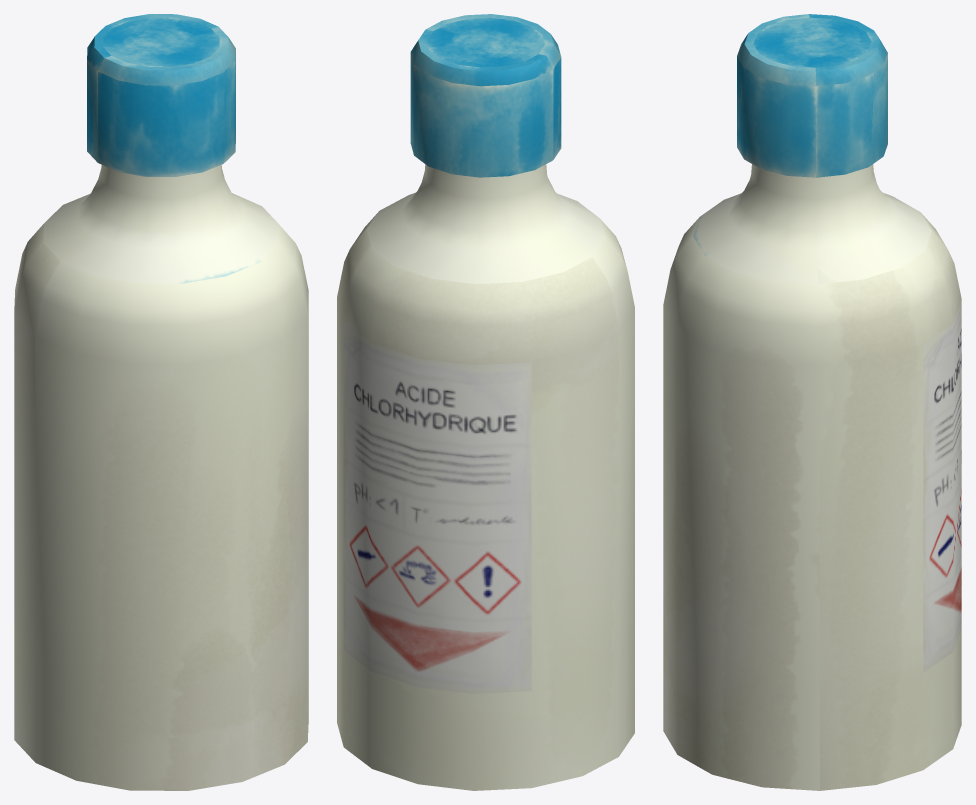
The model's file is bouteille1.fbx.
3 views of the same model, side by side, from view 1: azimuth 30°, elevation 25°; view 2: azimuth 150°, elevation 25°; view 3: azimuth 270°, elevation 25° (orthographic).
Visible parts, largest first — view 1: TAG_bouteille3.001; view 2: TAG_bouteille3.001; view 3: TAG_bouteille3.001.
Boxes of the visible parts, box(x1,y1,x2,y2) form: TAG_bouteille3.001: box(14, 14, 308, 790); TAG_bouteille3.001: box(337, 14, 634, 790); TAG_bouteille3.001: box(663, 14, 961, 790).
Bounding box in the file's own units: 0.1383 × 0.1383 × 0.3503.
